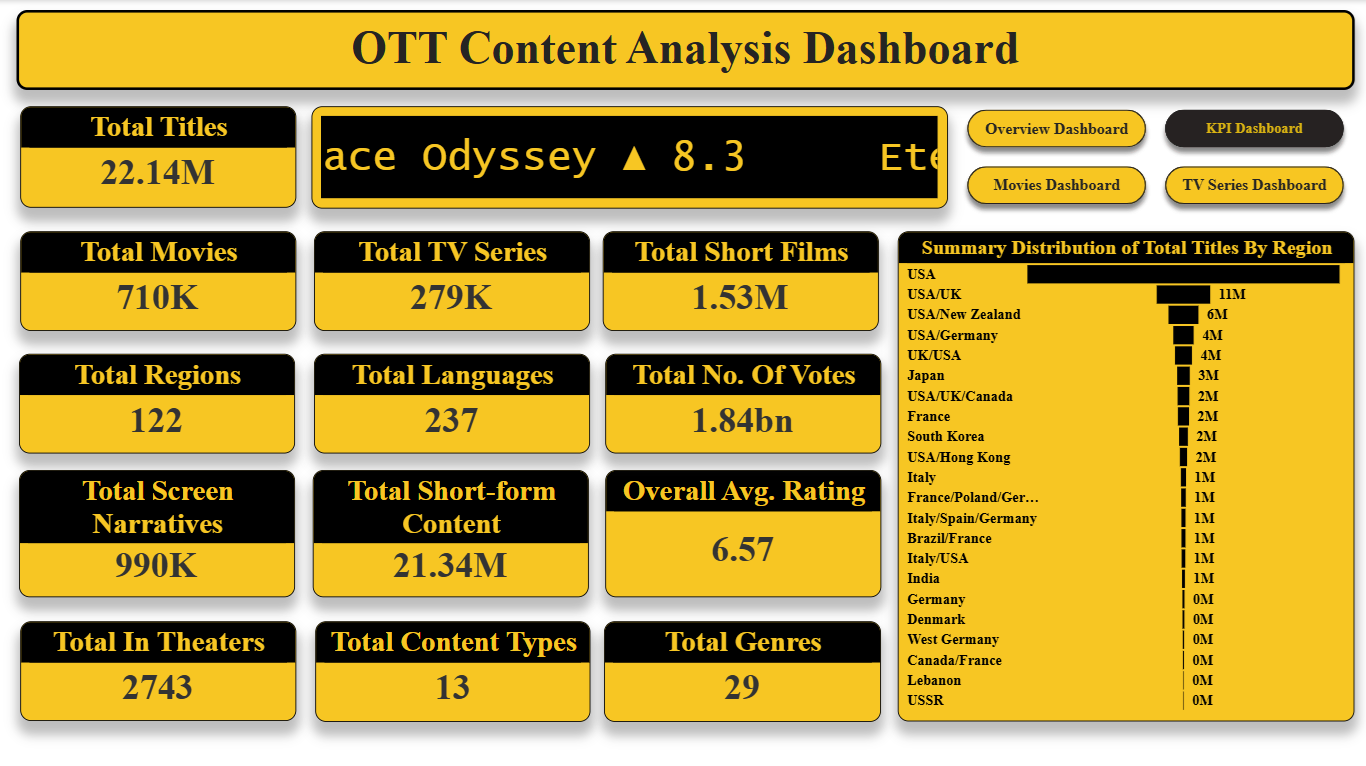

What the dashboard file says about the page in this screenshot:
{"tool":"powerbi","page":{"name":"KPI Dashboard","canvas":[1280,720],"ordinal":1},"visuals":[{"type":"advanceCardE03760C5AB684758B56AA29F9E6C257B","title":"Overall Avg. Rating","fields":{"mainMeasure":["Sum(final_data_kpi.overall_avg_rating)"]},"box":[563.4,437.7,256.6,118.2],"z":0},{"type":"advanceCardE03760C5AB684758B56AA29F9E6C257B","title":"Total Content Types","fields":{"mainMeasure":["Sum(final_data_kpi.total_content_media_types)"]},"box":[293.7,578.4,256.1,93.4],"z":1000},{"type":"advanceCardE03760C5AB684758B56AA29F9E6C257B","title":"Total Genres","fields":{"mainMeasure":["Sum(final_data_kpi.total_genres)"]},"box":[563.3,578.4,257.6,93.4],"z":2000},{"type":"advanceCardE03760C5AB684758B56AA29F9E6C257B","title":"Total In Theaters","fields":{"mainMeasure":["Sum(final_data_kpi.total_in_theaters)"]},"box":[19.4,578,256.6,93.1],"z":3000},{"type":"advanceCardE03760C5AB684758B56AA29F9E6C257B","title":"Total Languages","fields":{"mainMeasure":["Sum(final_data_kpi.total_languages)"]},"box":[293,329.5,256.6,93.1],"z":4000},{"type":"advanceCardE03760C5AB684758B56AA29F9E6C257B","title":"Total Movies","fields":{"mainMeasure":["Sum(final_data_kpi.total_movies)"]},"box":[19.4,214.5,256.6,93.1],"z":5000},{"type":"advanceCardE03760C5AB684758B56AA29F9E6C257B","title":"Total Regions","fields":{"mainMeasure":["Sum(final_data_kpi.total_regions)"]},"box":[18.9,329.5,256.6,93.1],"z":6000},{"type":"advanceCardE03760C5AB684758B56AA29F9E6C257B","title":"Total Screen Narratives","fields":{"mainMeasure":["Sum(final_data_kpi.total_screen_narratives)"]},"box":[18.9,437.7,256.6,118.2],"z":7000},{"type":"advanceCardE03760C5AB684758B56AA29F9E6C257B","title":"Total Short Films","fields":{"mainMeasure":["Sum(final_data_kpi.total_short_films)"]},"box":[562.2,215.1,256.6,93.1],"z":8000},{"type":"advanceCardE03760C5AB684758B56AA29F9E6C257B","title":"Total Short-form Content","fields":{"mainMeasure":["Sum(final_data_kpi.total_shortform_experiences)"]},"box":[291.8,437.7,256.6,118.2],"z":9000},{"type":"advanceCardE03760C5AB684758B56AA29F9E6C257B","title":"Total TV Series","fields":{"mainMeasure":["Sum(final_data_kpi.total_tvseries)"]},"box":[293,215.1,256.6,93.1],"z":10000},{"type":"advanceCardE03760C5AB684758B56AA29F9E6C257B","title":"Total No. Of Votes","fields":{"mainMeasure":["Sum(final_data_kpi.total_votes)"]},"box":[563.4,329.5,256.6,93.1],"z":11000},{"type":"textbox","box":[16.3,8.8,1245,74.2],"z":12000},{"type":"advanceCardE03760C5AB684758B56AA29F9E6C257B","title":"Total Titles","fields":{"mainMeasure":["Sum(final_data_kpi.total_titles)"]},"box":[19.4,98.8,256.6,94.3],"z":13000},{"type":"ScrollingTextVisual1448795304508","fields":{"Category":["final_data_movies.title"],"Measure Deviation":["Sum(final_data_movies.imdb_rating)"]},"box":[290.7,99.4,592,94.9],"z":14000},{"type":"funnel","title":"Summary Distribution of Total Titles By Region","fields":{"Category":["final_data_movies.region"],"Y":["Sum(final_data_movies.vote_count)"]},"box":[836.2,214.9,425.1,456.3],"z":15000},{"type":"pageNavigator","box":[892,92.5,369.8,106.8],"z":16000}]}

Visuals, with their boxes in screenshot pixels (x1, y1, x2, y2), scaled from the page's 1280x720 canvas onto the 1366x766 screenshot:
"Overall Avg. Rating" advanceCardE03760C5AB684758B56AA29F9E6C257B: l=601, t=466, r=875, b=591
"Total Content Types" advanceCardE03760C5AB684758B56AA29F9E6C257B: l=313, t=615, r=587, b=715
"Total Genres" advanceCardE03760C5AB684758B56AA29F9E6C257B: l=601, t=615, r=876, b=715
"Total In Theaters" advanceCardE03760C5AB684758B56AA29F9E6C257B: l=21, t=615, r=295, b=714
"Total Languages" advanceCardE03760C5AB684758B56AA29F9E6C257B: l=313, t=351, r=587, b=450
"Total Movies" advanceCardE03760C5AB684758B56AA29F9E6C257B: l=21, t=228, r=295, b=327
"Total Regions" advanceCardE03760C5AB684758B56AA29F9E6C257B: l=20, t=351, r=294, b=450
"Total Screen Narratives" advanceCardE03760C5AB684758B56AA29F9E6C257B: l=20, t=466, r=294, b=591
"Total Short Films" advanceCardE03760C5AB684758B56AA29F9E6C257B: l=600, t=229, r=874, b=328
"Total Short-form Content" advanceCardE03760C5AB684758B56AA29F9E6C257B: l=311, t=466, r=585, b=591
"Total TV Series" advanceCardE03760C5AB684758B56AA29F9E6C257B: l=313, t=229, r=587, b=328
"Total No. Of Votes" advanceCardE03760C5AB684758B56AA29F9E6C257B: l=601, t=351, r=875, b=450
textbox: l=17, t=9, r=1346, b=88
"Total Titles" advanceCardE03760C5AB684758B56AA29F9E6C257B: l=21, t=105, r=295, b=205
ScrollingTextVisual1448795304508 - final_data_movies.title x Sum(final_data_movies.imdb_rating): l=310, t=106, r=942, b=207
"Summary Distribution of Total Titles By Region" funnel: l=892, t=229, r=1346, b=714
pageNavigator: l=952, t=98, r=1347, b=212
